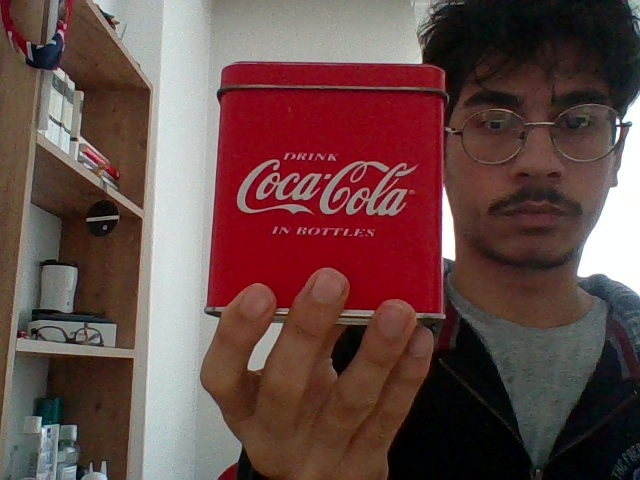CocaColaBox: (213, 63, 443, 316)
